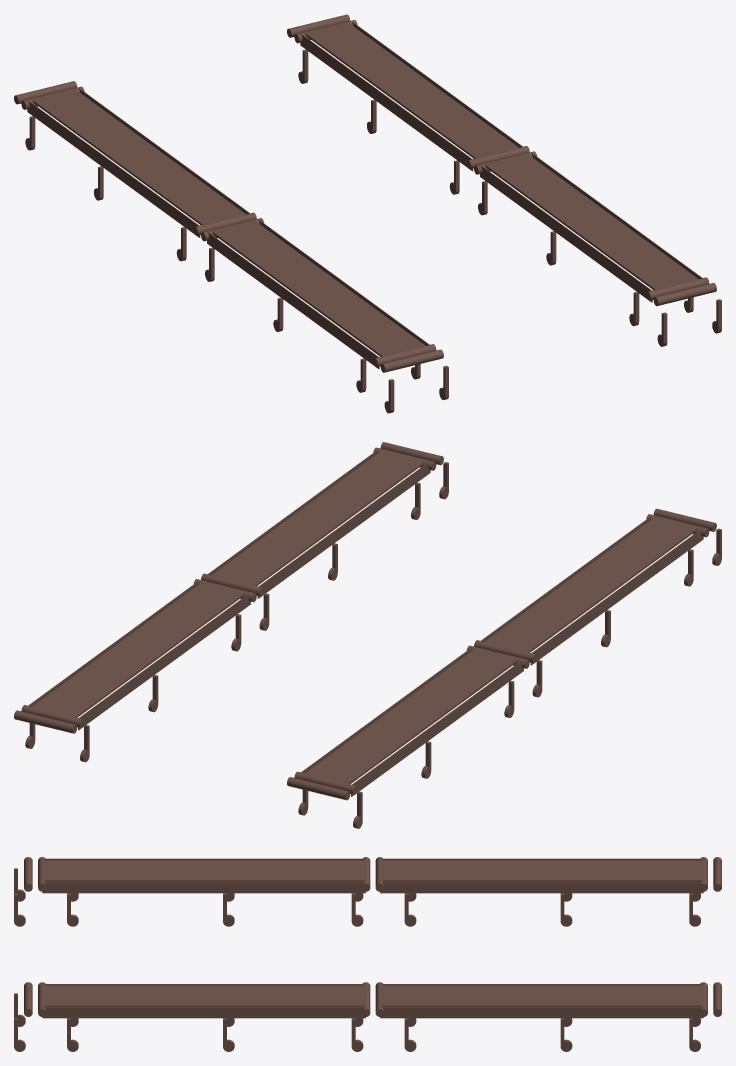
File: GCC-AAV-13220-30.nwd(69).fbx
The picture shows the model from 3 angles, top to bottom: view 1: azimuth 30°, elevation 25°; view 2: azimuth 150°, elevation 25°; view 3: azimuth 270°, elevation 25°; orthographic projection. The views are drawn at different scales.
Visible parts, largest first — view 1: BOX 9 of SUBEQUIPMENT /721-U-302-X-015C, BOX 9 of SUBEQUIPMENT /721-U-301-X-015C, BOX 9 of SUBEQUIPMENT /721-U-302-X-015D, BOX 9 of SUBEQUIPMENT /721-U-301-X-015D, BOX 2 of SUBEQUIPMENT /721-U-302-X-015D, BOX 1 of SUBEQUIPMENT /721-U-301-X-015D, BOX 1 of SUBEQUIPMENT /721-U-301-X-015C, BOX 2 of SUBEQUIPMENT /721-U-302-X-015C, BOX 1 of SUBEQUIPMENT /721-U-302-X-015D, BOX 2 of SUBEQUIPMENT /721-U-301-X-015D, BOX 2 of SUBEQUIPMENT /721-U-301-X-015C, BOX 1 of SUBEQUIPMENT /721-U-302-X-015C (+2 smaller); view 2: BOX 9 of SUBEQUIPMENT /721-U-302-X-015D, BOX 9 of SUBEQUIPMENT /721-U-301-X-015D, BOX 9 of SUBEQUIPMENT /721-U-301-X-015C, BOX 9 of SUBEQUIPMENT /721-U-302-X-015C, BOX 2 of SUBEQUIPMENT /721-U-302-X-015C, BOX 1 of SUBEQUIPMENT /721-U-301-X-015C, BOX 2 of SUBEQUIPMENT /721-U-302-X-015D, BOX 1 of SUBEQUIPMENT /721-U-301-X-015D, BOX 2 of SUBEQUIPMENT /721-U-301-X-015C, BOX 1 of SUBEQUIPMENT /721-U-302-X-015D, BOX 1 of SUBEQUIPMENT /721-U-302-X-015C, BOX 2 of SUBEQUIPMENT /721-U-301-X-015D (+2 smaller); view 3: BOX 9 of SUBEQUIPMENT /721-U-302-X-015D, BOX 9 of SUBEQUIPMENT /721-U-302-X-015C, BOX 9 of SUBEQUIPMENT /721-U-301-X-015D, BOX 9 of SUBEQUIPMENT /721-U-301-X-015C, BOX 2 of SUBEQUIPMENT /721-U-301-X-015D, BOX 2 of SUBEQUIPMENT /721-U-301-X-015C, BOX 1 of SUBEQUIPMENT /721-U-302-X-015D, BOX 1 of SUBEQUIPMENT /721-U-302-X-015C, BOX 1 of SUBEQUIPMENT /721-U-301-X-015D, BOX 1 of SUBEQUIPMENT /721-U-301-X-015C, BOX 2 of SUBEQUIPMENT /721-U-302-X-015D, BOX 2 of SUBEQUIPMENT /721-U-302-X-015C.
Part boxes in pixels (x1=…): BOX 9 of SUBEQUIPMENT /721-U-302-X-015C: x1=484, y1=153, x2=698, y2=290; BOX 9 of SUBEQUIPMENT /721-U-301-X-015C: x1=211, y1=220, x2=425, y2=356; BOX 9 of SUBEQUIPMENT /721-U-302-X-015D: x1=305, y1=22, x2=519, y2=158; BOX 9 of SUBEQUIPMENT /721-U-301-X-015D: x1=32, y1=89, x2=246, y2=225; BOX 2 of SUBEQUIPMENT /721-U-302-X-015D: x1=300, y1=33, x2=473, y2=171; BOX 1 of SUBEQUIPMENT /721-U-301-X-015D: x1=27, y1=100, x2=200, y2=237; BOX 1 of SUBEQUIPMENT /721-U-301-X-015C: x1=207, y1=231, x2=379, y2=369; BOX 2 of SUBEQUIPMENT /721-U-302-X-015C: x1=480, y1=165, x2=652, y2=302; BOX 1 of SUBEQUIPMENT /721-U-302-X-015D: x1=351, y1=21, x2=523, y2=147; BOX 2 of SUBEQUIPMENT /721-U-301-X-015D: x1=78, y1=88, x2=250, y2=214; BOX 2 of SUBEQUIPMENT /721-U-301-X-015C: x1=258, y1=219, x2=429, y2=345; BOX 1 of SUBEQUIPMENT /721-U-302-X-015C: x1=531, y1=152, x2=702, y2=278; BOX 9 of SUBEQUIPMENT /721-U-302-X-015D: x1=32, y1=581, x2=246, y2=717; BOX 9 of SUBEQUIPMENT /721-U-301-X-015D: x1=305, y1=648, x2=519, y2=784; BOX 9 of SUBEQUIPMENT /721-U-301-X-015C: x1=484, y1=516, x2=698, y2=652; BOX 9 of SUBEQUIPMENT /721-U-302-X-015C: x1=211, y1=449, x2=425, y2=586; BOX 2 of SUBEQUIPMENT /721-U-302-X-015C: x1=257, y1=461, x2=430, y2=598; BOX 1 of SUBEQUIPMENT /721-U-301-X-015C: x1=530, y1=528, x2=703, y2=665; BOX 2 of SUBEQUIPMENT /721-U-302-X-015D: x1=78, y1=592, x2=250, y2=730; BOX 1 of SUBEQUIPMENT /721-U-301-X-015D: x1=351, y1=659, x2=523, y2=796; BOX 2 of SUBEQUIPMENT /721-U-301-X-015C: x1=480, y1=515, x2=652, y2=641; BOX 1 of SUBEQUIPMENT /721-U-302-X-015D: x1=27, y1=580, x2=199, y2=706; BOX 1 of SUBEQUIPMENT /721-U-302-X-015C: x1=207, y1=448, x2=379, y2=575; BOX 2 of SUBEQUIPMENT /721-U-301-X-015D: x1=300, y1=647, x2=472, y2=773; BOX 9 of SUBEQUIPMENT /721-U-302-X-015D: x1=380, y1=985, x2=703, y2=1006; BOX 9 of SUBEQUIPMENT /721-U-302-X-015C: x1=42, y1=985, x2=365, y2=1006; BOX 9 of SUBEQUIPMENT /721-U-301-X-015D: x1=380, y1=860, x2=703, y2=881; BOX 9 of SUBEQUIPMENT /721-U-301-X-015C: x1=42, y1=860, x2=365, y2=881; BOX 2 of SUBEQUIPMENT /721-U-301-X-015D: x1=380, y1=882, x2=703, y2=893; BOX 2 of SUBEQUIPMENT /721-U-301-X-015C: x1=42, y1=882, x2=365, y2=893; BOX 1 of SUBEQUIPMENT /721-U-302-X-015D: x1=380, y1=1007, x2=703, y2=1018; BOX 1 of SUBEQUIPMENT /721-U-302-X-015C: x1=42, y1=1007, x2=365, y2=1018; BOX 1 of SUBEQUIPMENT /721-U-301-X-015D: x1=380, y1=858, x2=703, y2=860; BOX 1 of SUBEQUIPMENT /721-U-301-X-015C: x1=42, y1=858, x2=365, y2=860; BOX 2 of SUBEQUIPMENT /721-U-302-X-015D: x1=380, y1=984, x2=703, y2=985; BOX 2 of SUBEQUIPMENT /721-U-302-X-015C: x1=42, y1=984, x2=365, y2=985.
Bounding box in the file's own units: 182 × 23.94 × 357.
